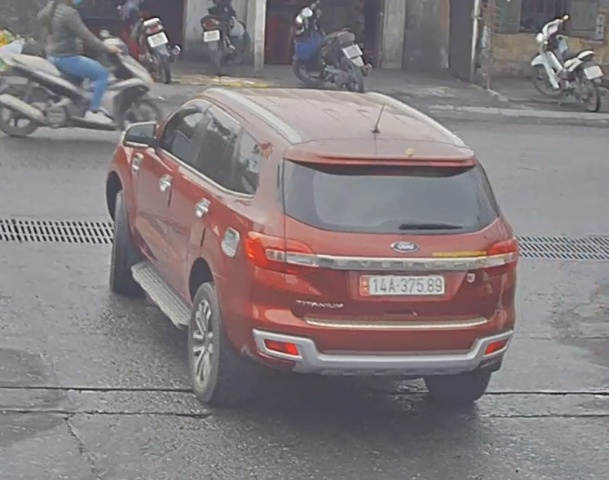vehicle plate: (355, 266, 449, 295)
